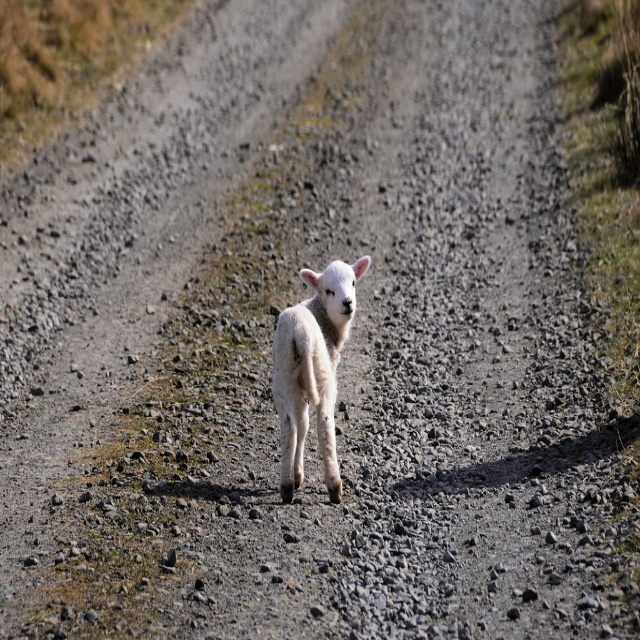Sheep: (272, 254, 374, 507)
